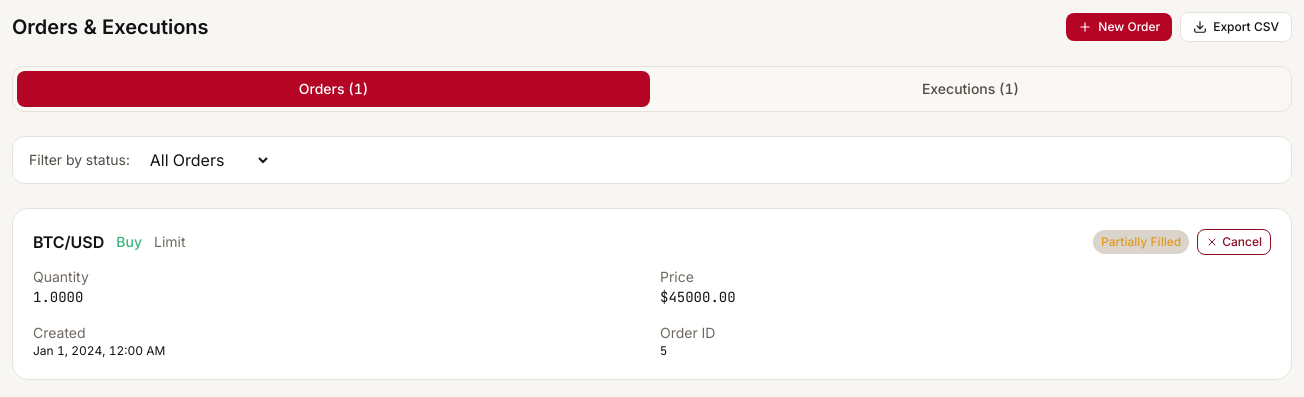
Test: Orders › switches back to orders tab
Step 1. Click the button "Executions (1)" → (970, 89), box [654,71,1287,107]
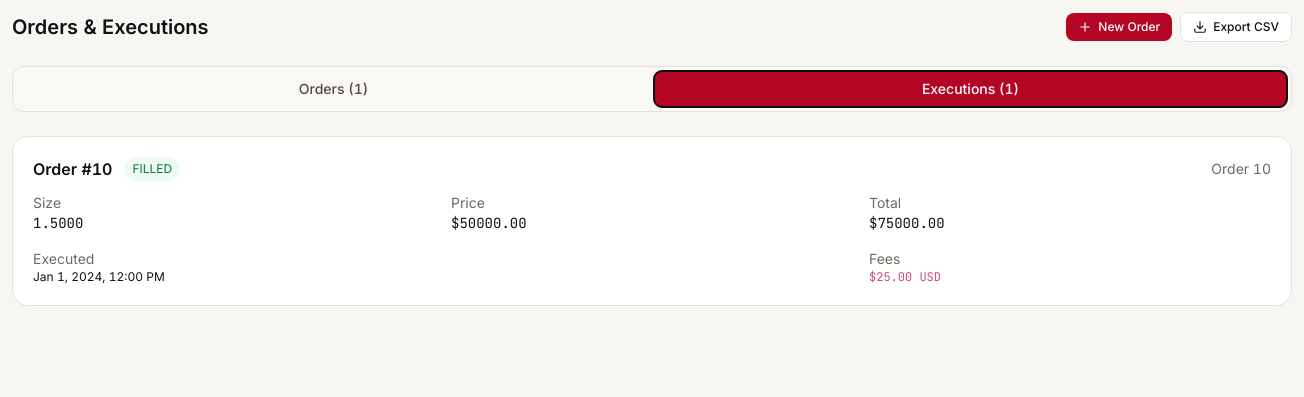
Step 2. Click the button "Orders (1)" → (334, 89), box [17,71,650,107]
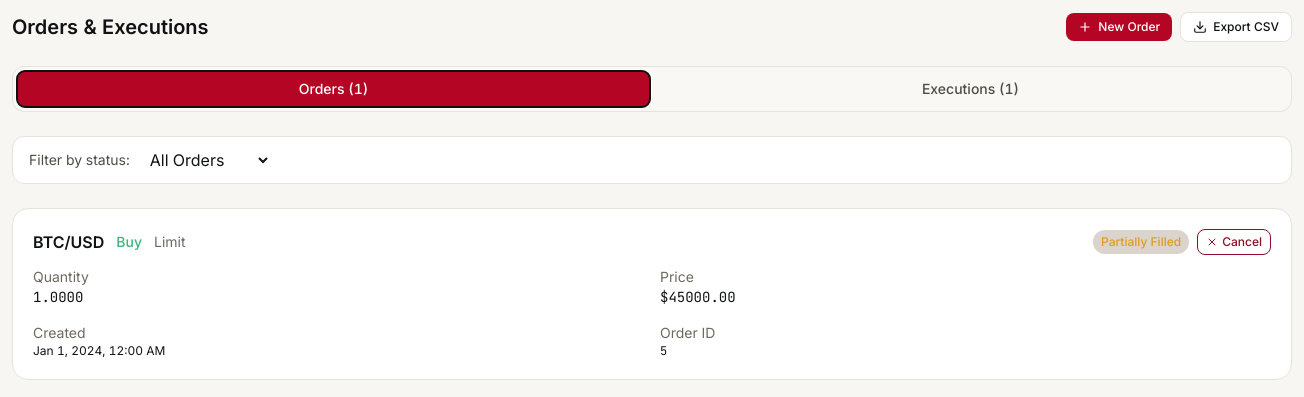
Check: the text "Filter by status:" is shown, box [29,150,130,170]
